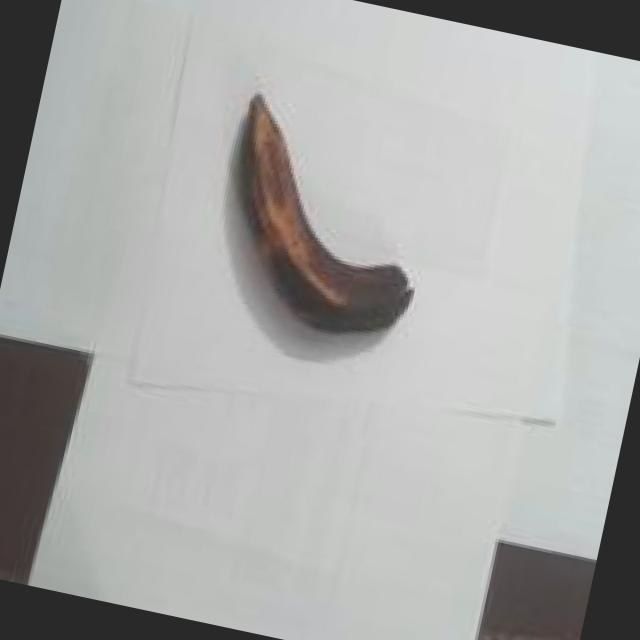Rotten_Banana: (173, 62, 481, 374)
